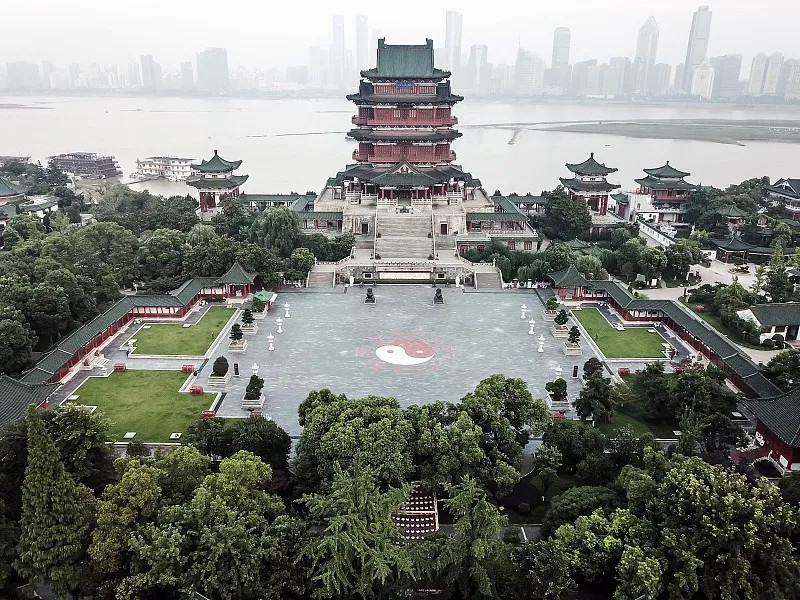Teng: (326, 38, 481, 202)
